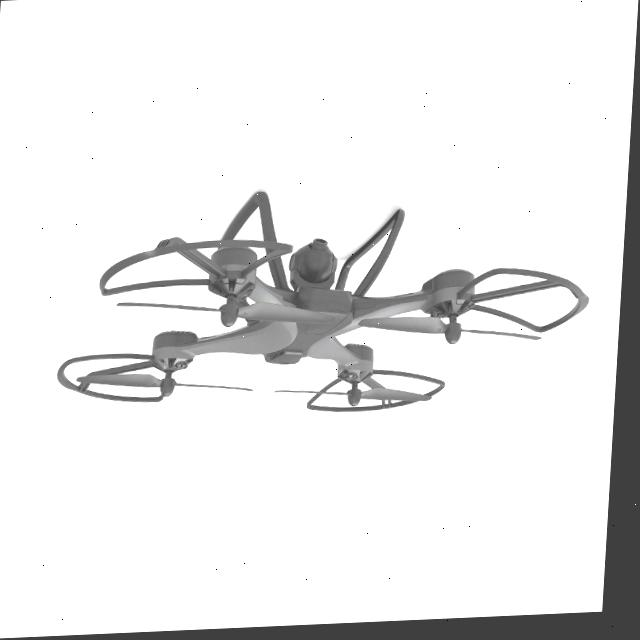drone: (0, 160, 632, 464)
